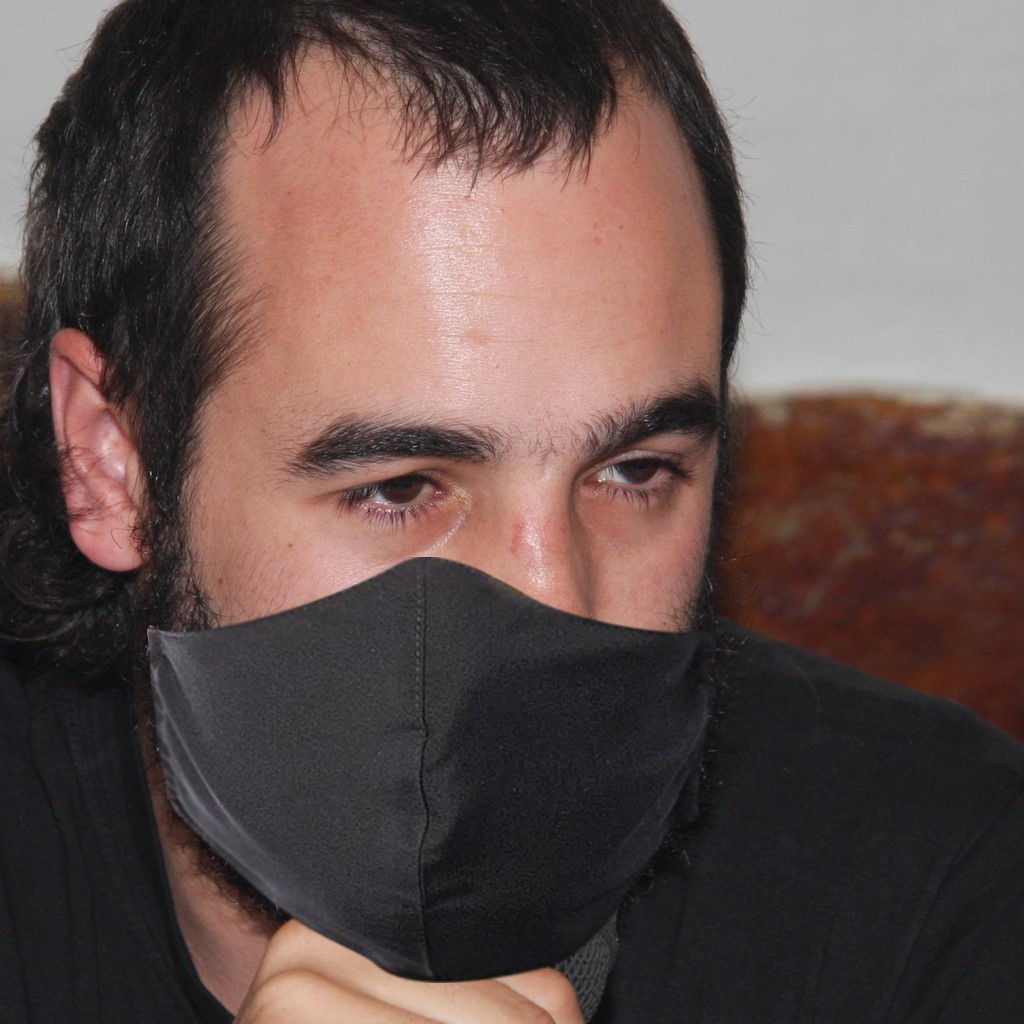con_mascara: (101, 53, 739, 944)
